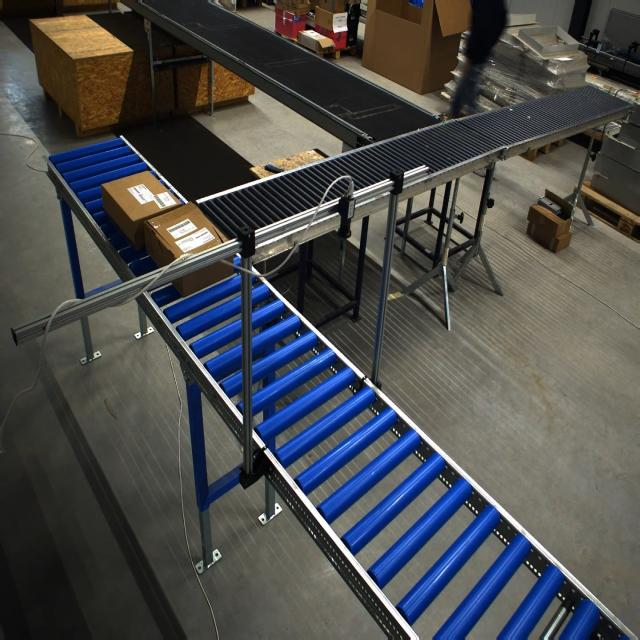box: (143, 202, 233, 294), (100, 171, 182, 250)
